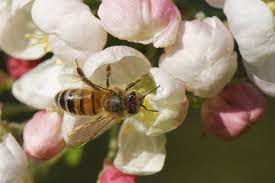bee: (54, 53, 167, 159)
